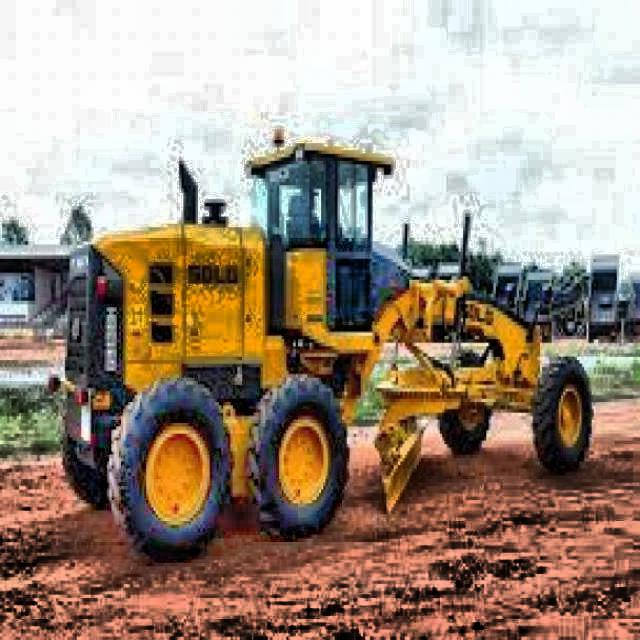bull_dozer/loader/grader: (46, 130, 594, 564)
person: (299, 184, 321, 238)
